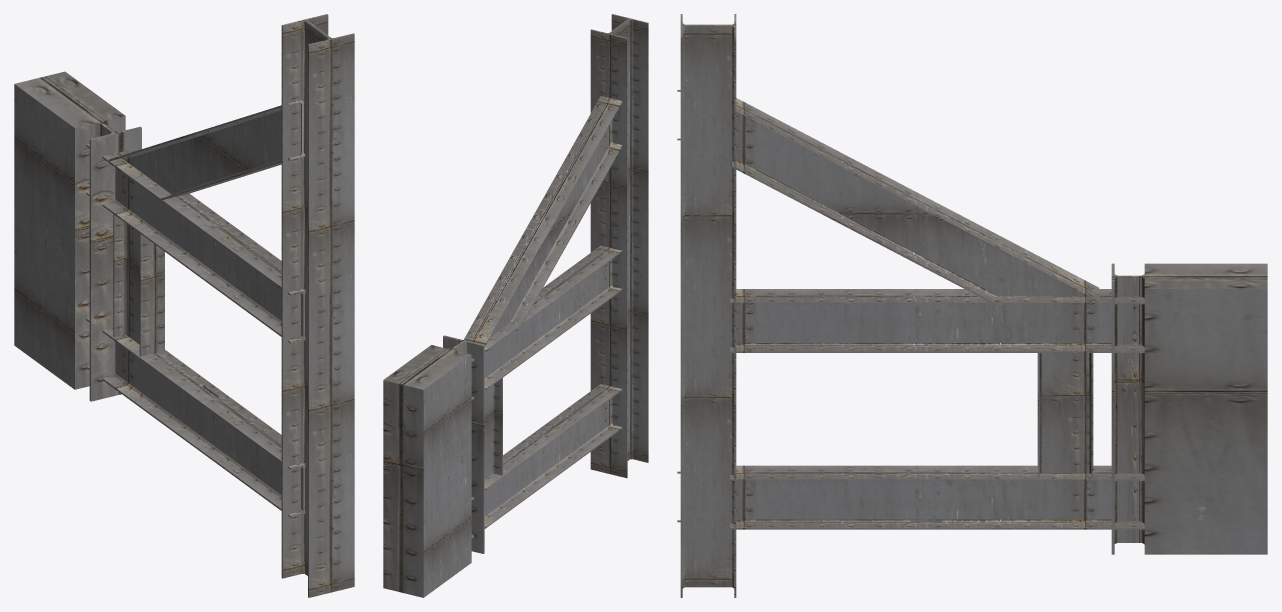
Rendered from CT_Sign_Support_B_01.FBX.
3 views of the same model, side by side, from view 1: azimuth 30°, elevation 25°; view 2: azimuth 150°, elevation 25°; view 3: azimuth 270°, elevation 25° (orthographic). The views are drawn at different scales.
Visible parts, largest first — view 1: CT_Sign_Support_B_01; view 2: CT_Sign_Support_B_01; view 3: CT_Sign_Support_B_01.
Boxes of the visible parts, x1,y1,x2,y2 form: CT_Sign_Support_B_01: (14, 14, 354, 597); CT_Sign_Support_B_01: (383, 14, 648, 597); CT_Sign_Support_B_01: (677, 14, 1267, 597).
Size of the model in its own units: 15.15 by 156 by 148.
